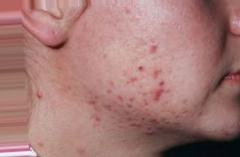Acne: (87, 39, 196, 137)
